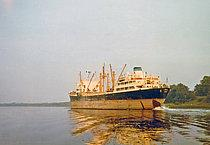Ship: (68, 58, 177, 116)
